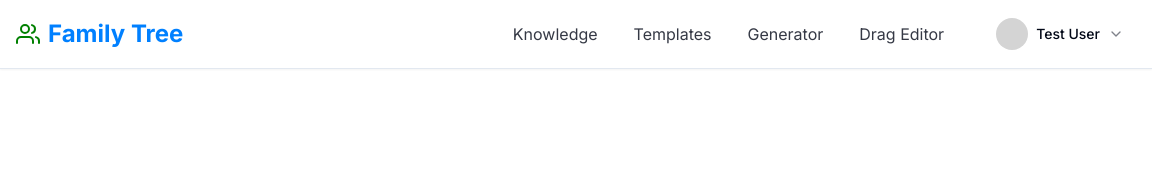
Test: Navbar组件 › 已登录用户应该能够打开下拉菜单并登出
The image size is (1152, 192).
Click the button with aria-label "open user menu": x=1060, y=34 [984,16,1136,52]
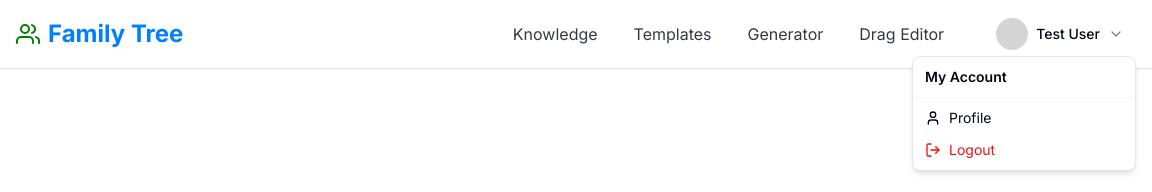
Expected: the menu item "Profile" is shown, [925,109,992,126]
Expected: the menu item "Logout" is shown
Click the menu item "Logout": x=960, y=150 [925,141,995,158]
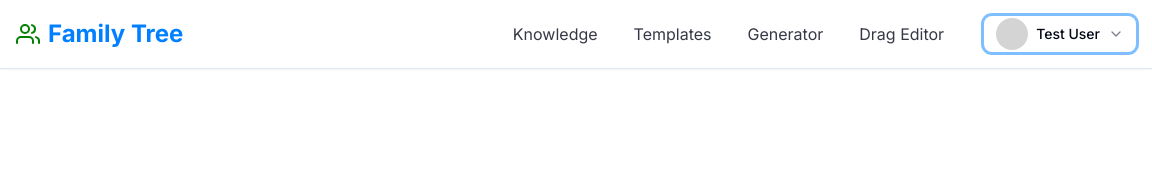
Expected: the menu item "Profile" is gone
